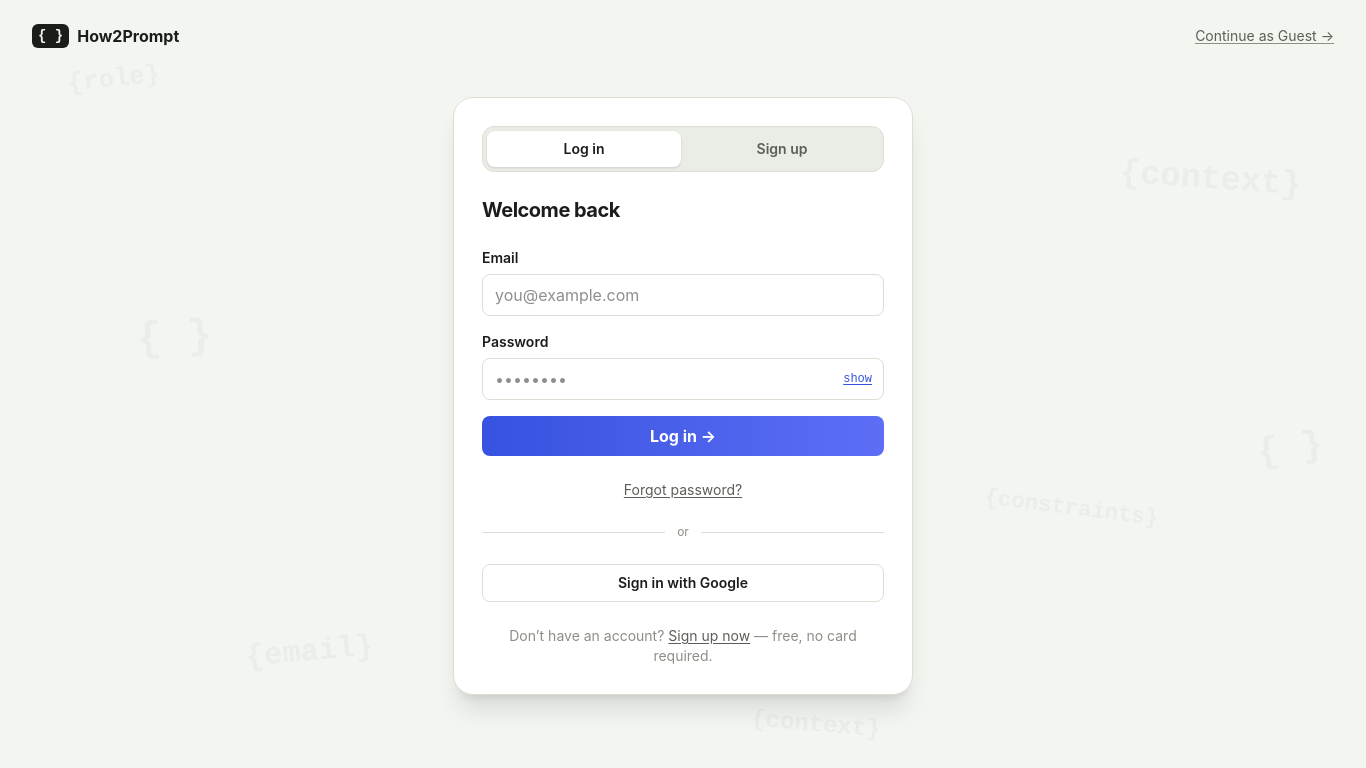
Test: LoginPage › shows an inline error for invalid credentials without clearing input
This screenshot has width=1366, height=768.
Step 1. Type "wrong@example.com" into the field with placeholder "you@example.com" → [683, 295], box [482,274,884,316]
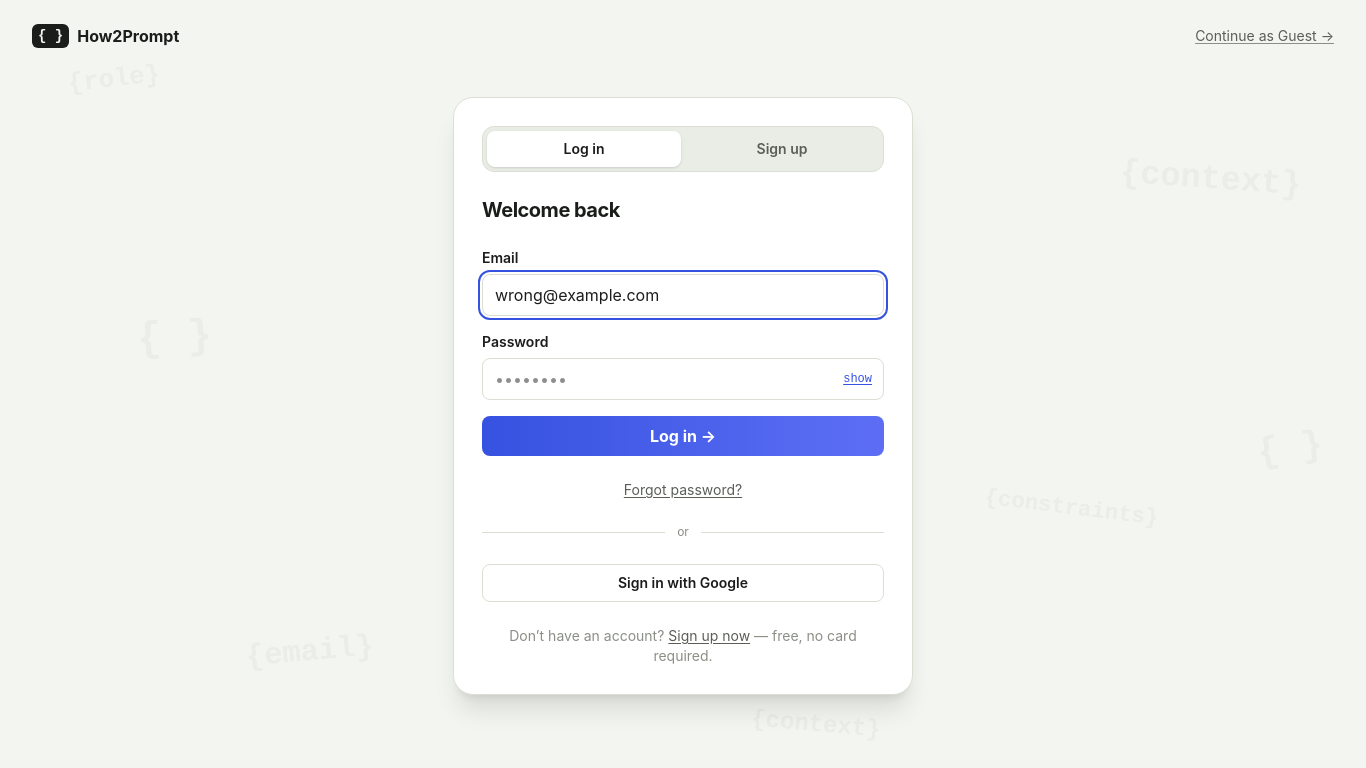
Step 2. Type "wrongpass" into the password field with placeholder "••••••••" → [683, 379], box [482,358,884,400]
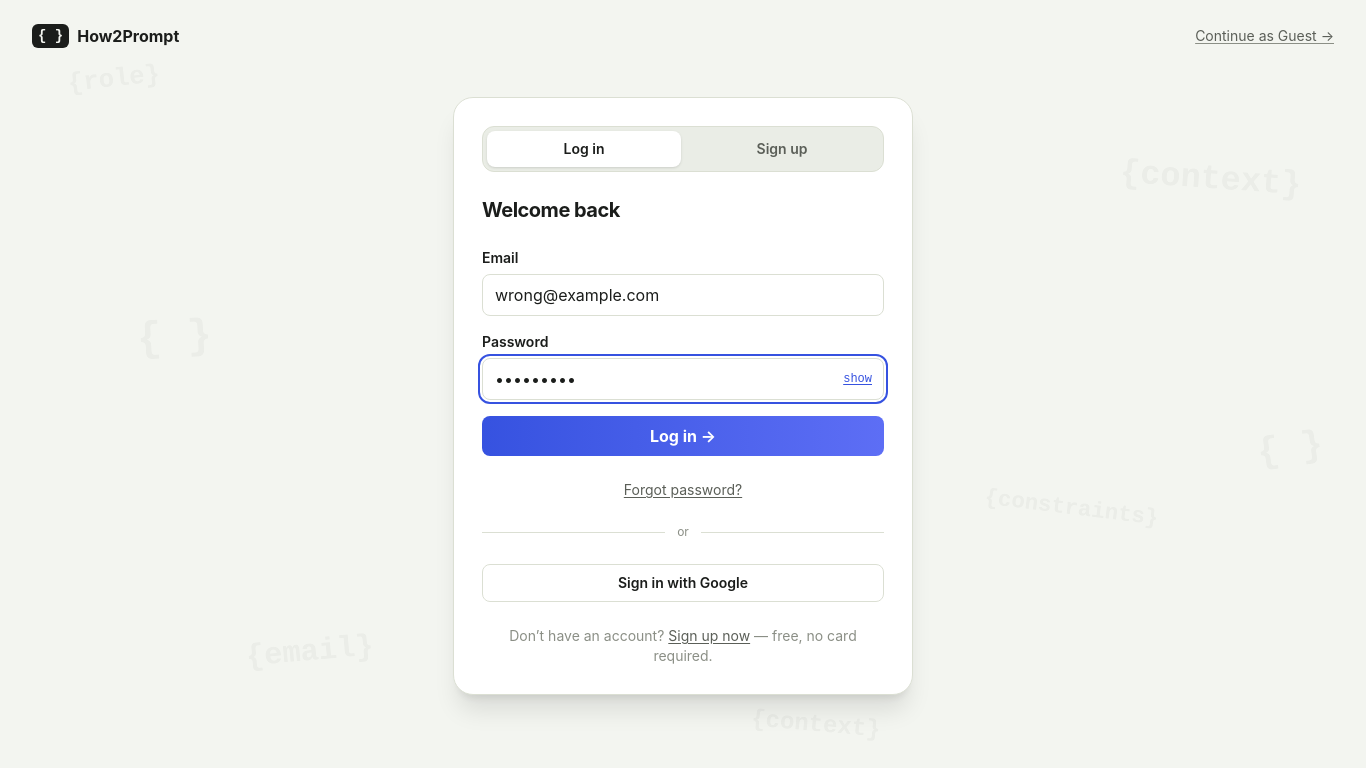
Step 3. Click the button "Log in →" → [683, 436], box [482,416,884,456]
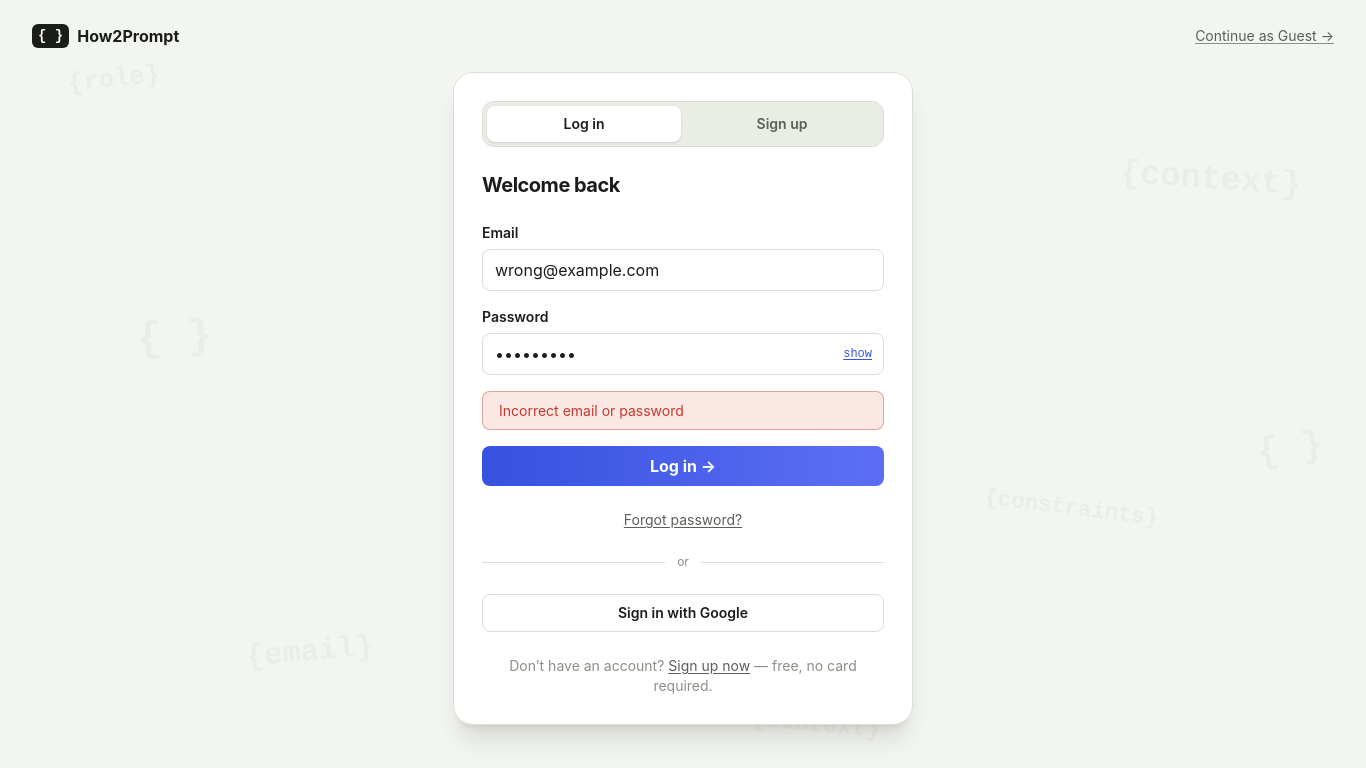
Check: the message reads "Incorrect email or password", box [499,402,684,419]
